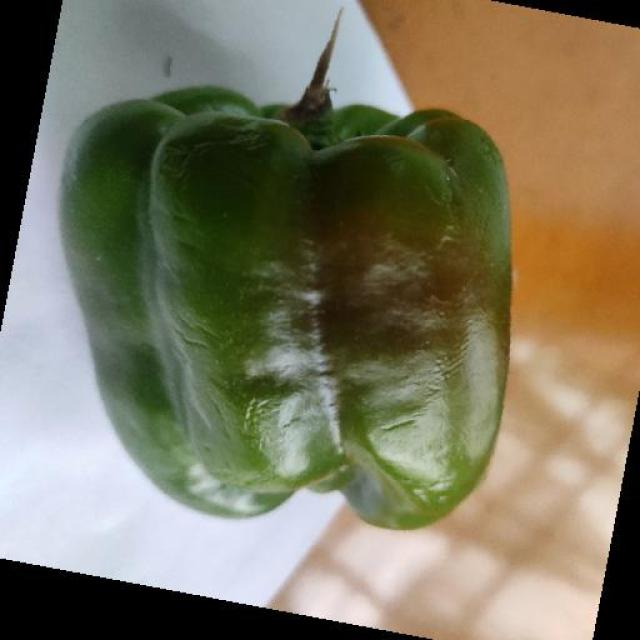Stale_Capsicum: (50, 56, 578, 611)
